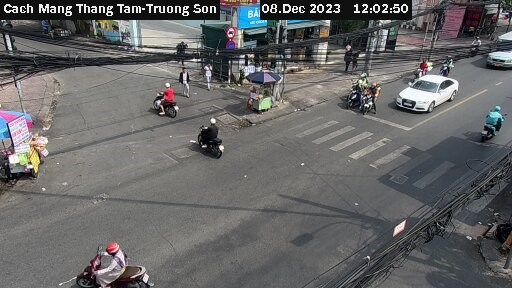car: (396, 75, 463, 118), (489, 33, 512, 69)
motorbike: (74, 242, 155, 288), (191, 122, 240, 160), (149, 80, 183, 124), (468, 103, 506, 142), (340, 80, 372, 106), (358, 87, 384, 117), (435, 49, 459, 80), (408, 55, 430, 81), (465, 38, 488, 61)
